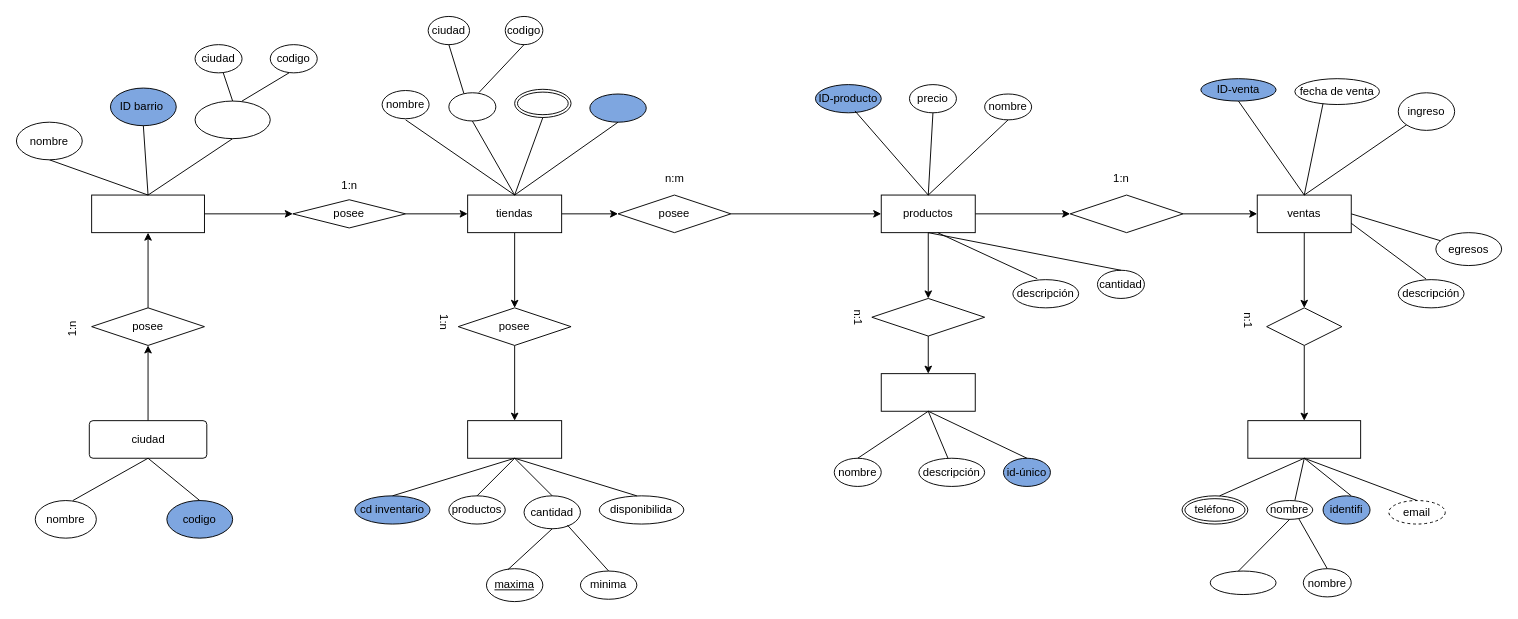
Image size: 1518x619. Some labels were removed from this diagram. Each missing label, with the box of its shape:
apellido: (1209, 570, 1276, 595)
barrios: (91, 194, 204, 233)
categorias: (880, 373, 975, 411)
cliente: (1247, 420, 1361, 458)
compra: (1266, 307, 1342, 345)
direccion: (448, 92, 496, 121)
gestiona: (1069, 194, 1183, 233)
ID-tienda: (589, 93, 646, 122)
inventario: (467, 420, 562, 458)
telefono: (514, 88, 571, 118)
tiene: (871, 298, 985, 336)
ubicacion: (194, 100, 270, 139)
